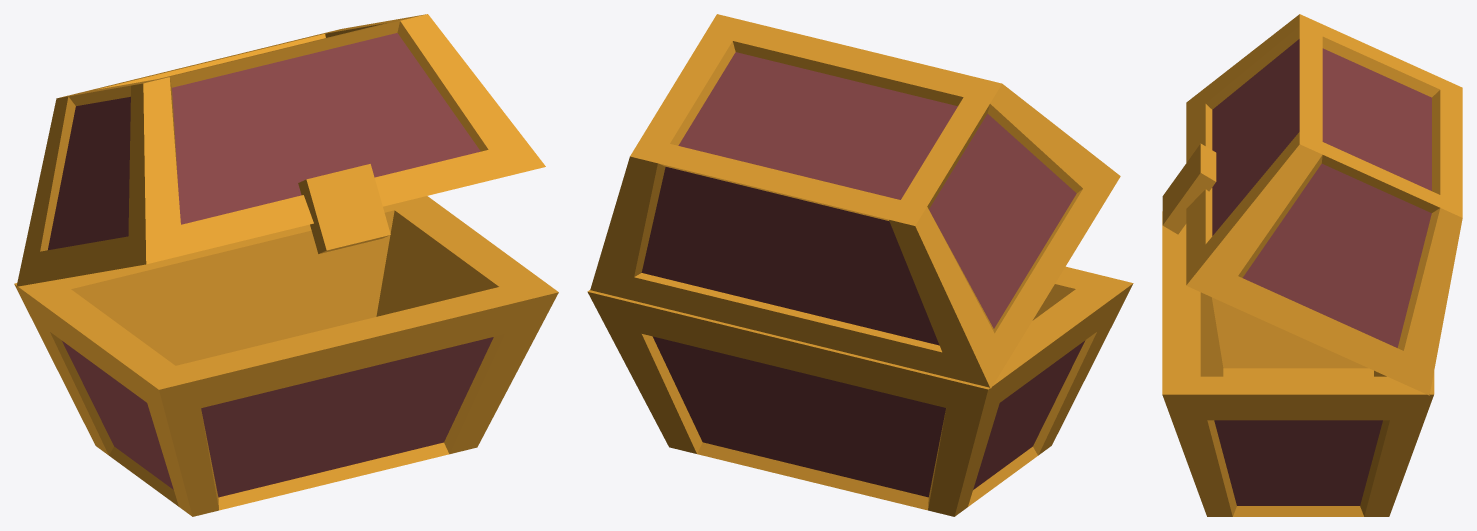
The model's file is Chest_001.fbx.
3 renders of one model, left to right at view 1: azimuth 30°, elevation 25°; view 2: azimuth 150°, elevation 25°; view 3: azimuth 270°, elevation 25°, orthographic. The views are drawn at different scales.
Visible parts, largest first — view 1: pCube4; view 2: pCube4; view 3: pCube4.
Part boxes in pixels (left/top/right/bottom): pCube4: left=14, top=14, right=558, bottom=516; pCube4: left=587, top=14, right=1133, bottom=516; pCube4: left=1162, top=14, right=1462, bottom=516.
Size of the model in its own units: 1.33 by 1.26 by 0.9208.
